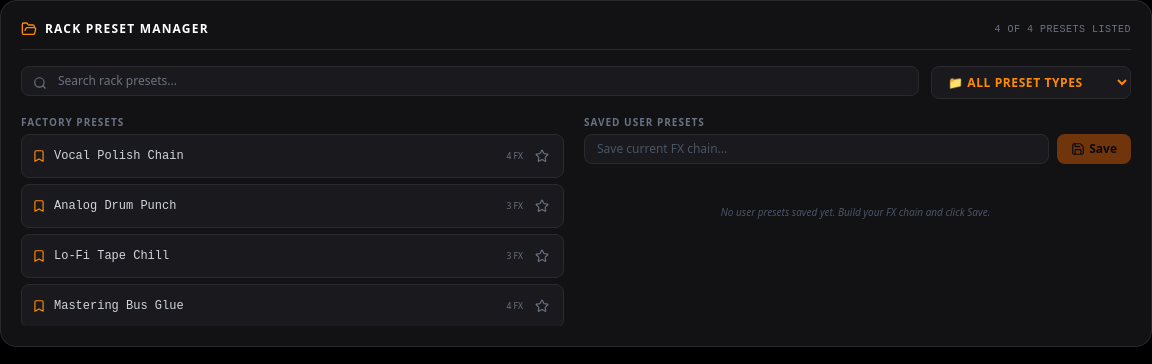
PresetBrowser › filters factory presets by search text
The image size is (1152, 364).
Type "zzzz-no-match" into the field with placeholder "Search rack presets...".
click(470, 81); type("zzzz-no-match")  # box [21,66,919,96]
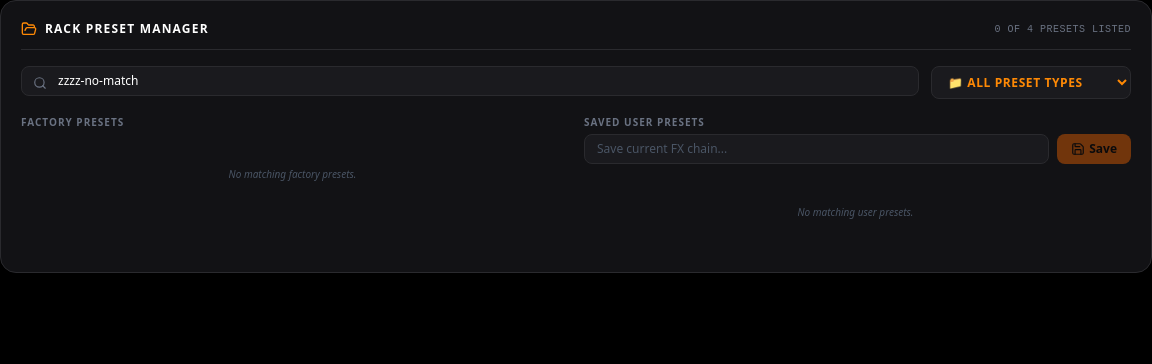
Result: the text "No matching factory presets." is shown at [229,166,356,180]
Replace the text in the field with placeholder "Search rack presets..." with "Vocal" at {"x": 470, "y": 81}, box [21,66,919,96]
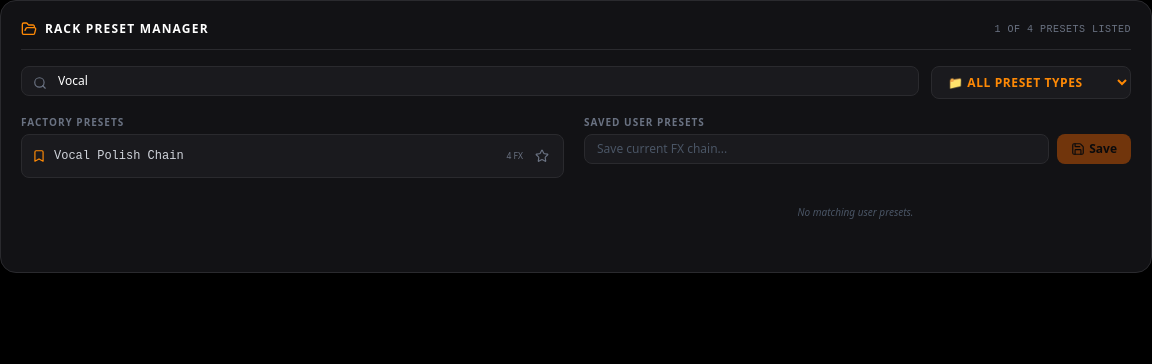
Result: the text "Vocal Polish Chain" is shown at [54,148,188,164]
